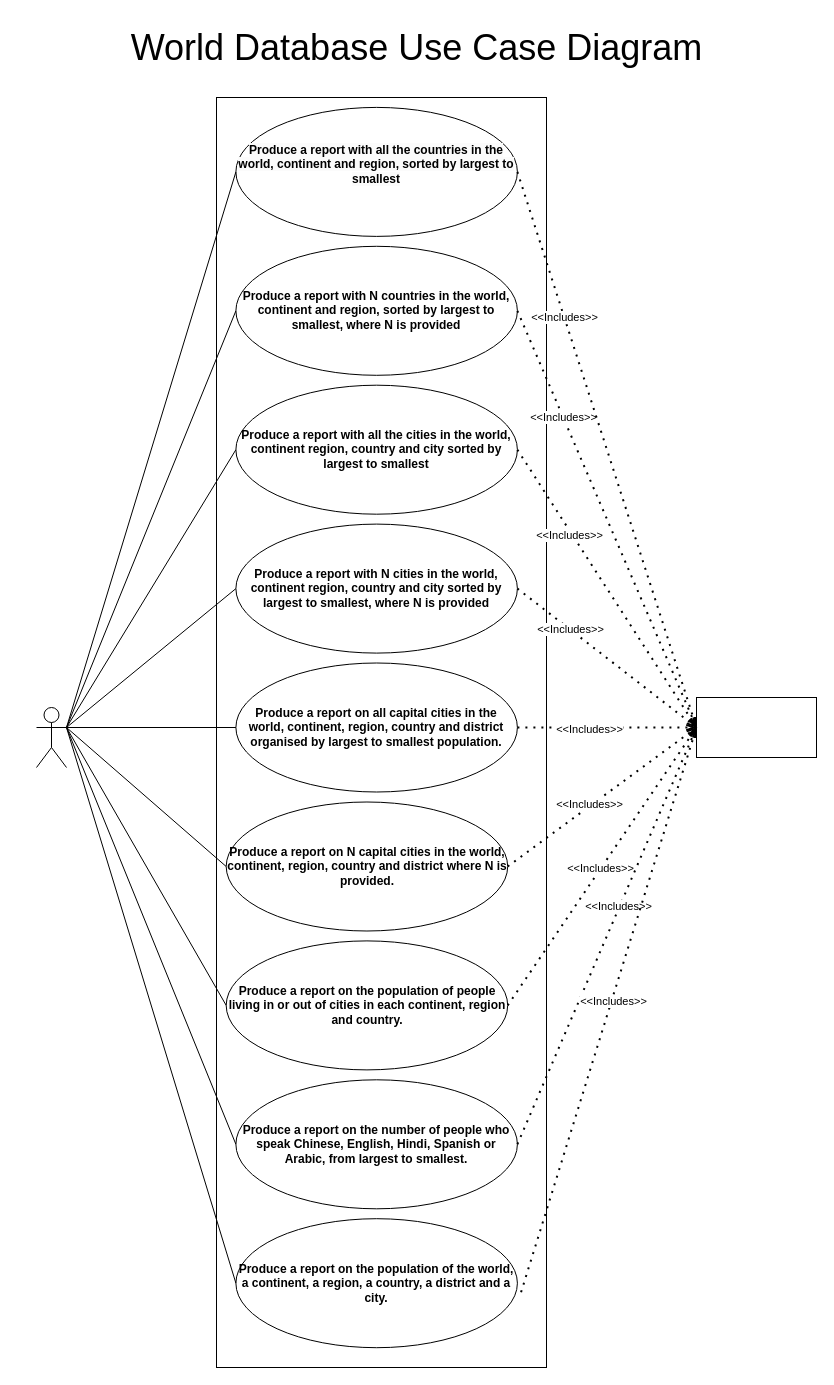
This 834x1385 diagram has some shape labels left out. Each missing label, with the box of its shape:
Organisation: (36, 706, 66, 768)
View report: (696, 696, 816, 758)
